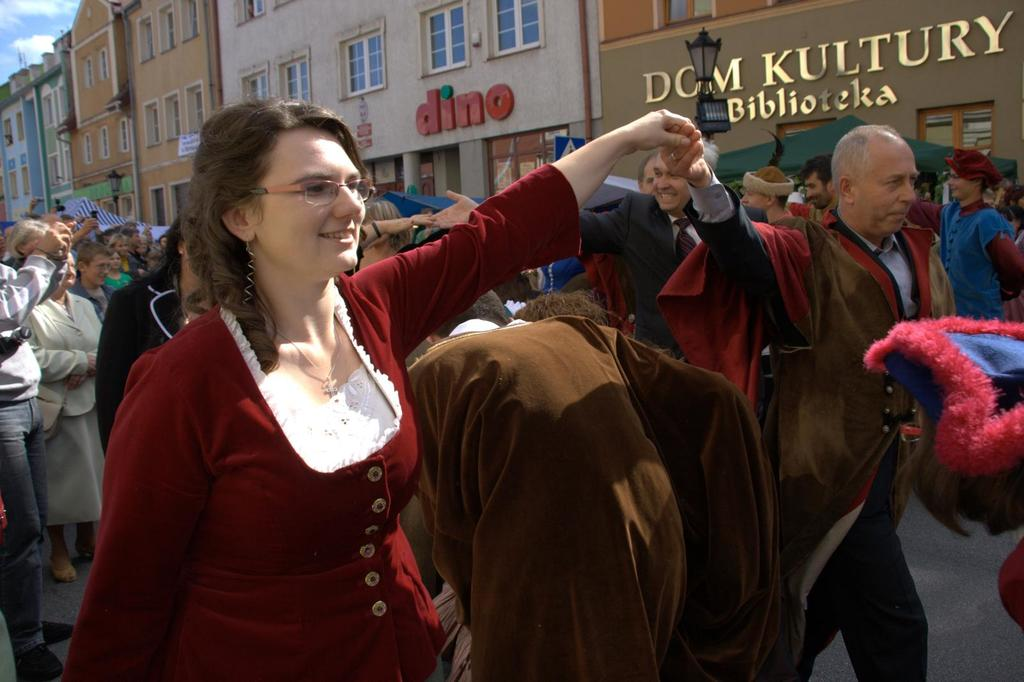Human-face: (252, 120, 372, 273), (850, 136, 916, 235), (656, 152, 687, 205), (86, 251, 104, 288), (951, 170, 977, 195)
